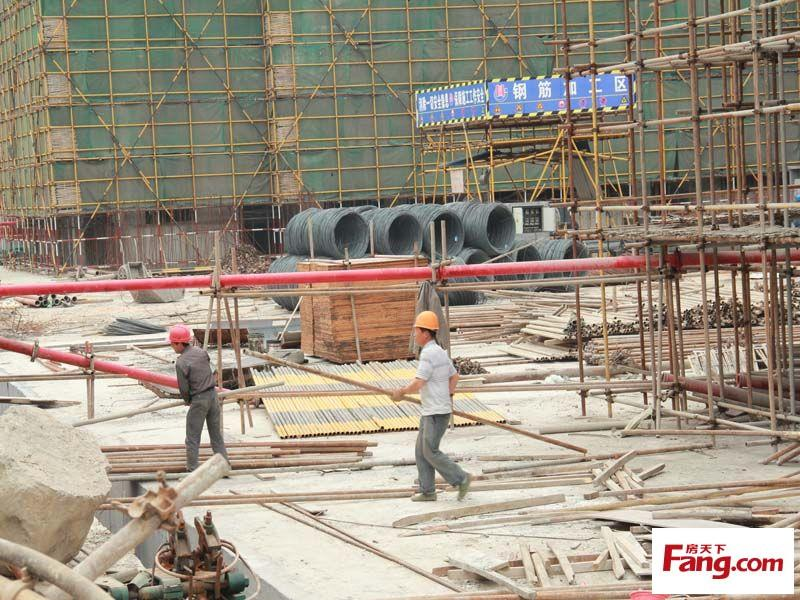helmet: (414, 308, 448, 331), (167, 326, 196, 345)
